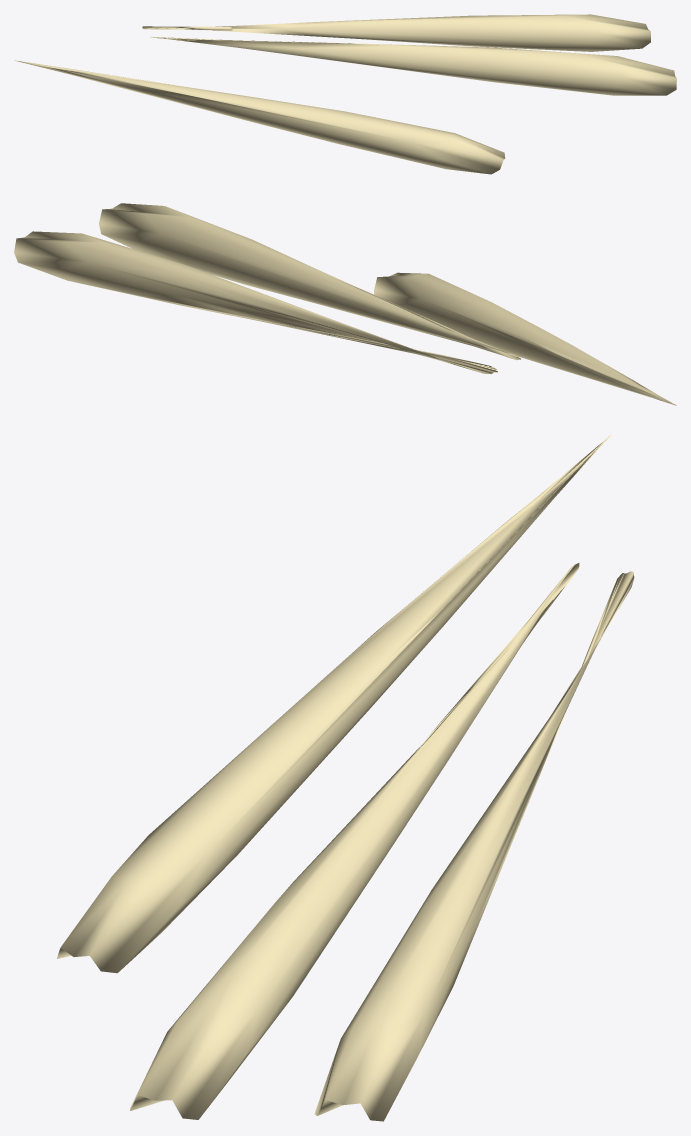
The model's file is string.glb.
3 views of the same model, one above another, from view 1: azimuth 30°, elevation 25°; view 2: azimuth 150°, elevation 25°; view 3: azimuth 270°, elevation 25° (orthographic). The views are drawn at different scales.
Parts seen in each view (by area): view 1: BallCore; view 2: BallCore; view 3: BallCore.
Part boxes in pixels (bbox=[...]): BallCore: bbox=[14, 14, 676, 174]; BallCore: bbox=[14, 203, 676, 405]; BallCore: bbox=[57, 434, 634, 1121].
Bounding box in the file's own units: 0.0136 × 0.00221 × 0.00596.
